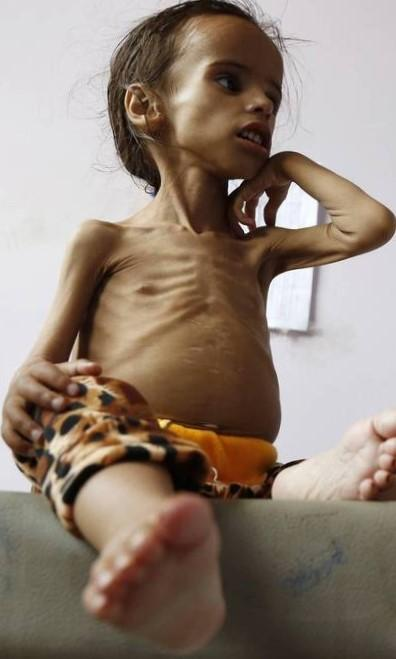Stunting: (130, 23, 297, 238)
